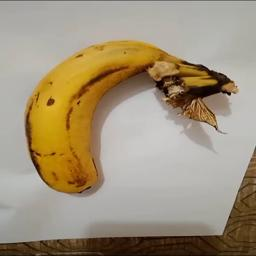Banana Semifresh: (22, 35, 241, 196)
